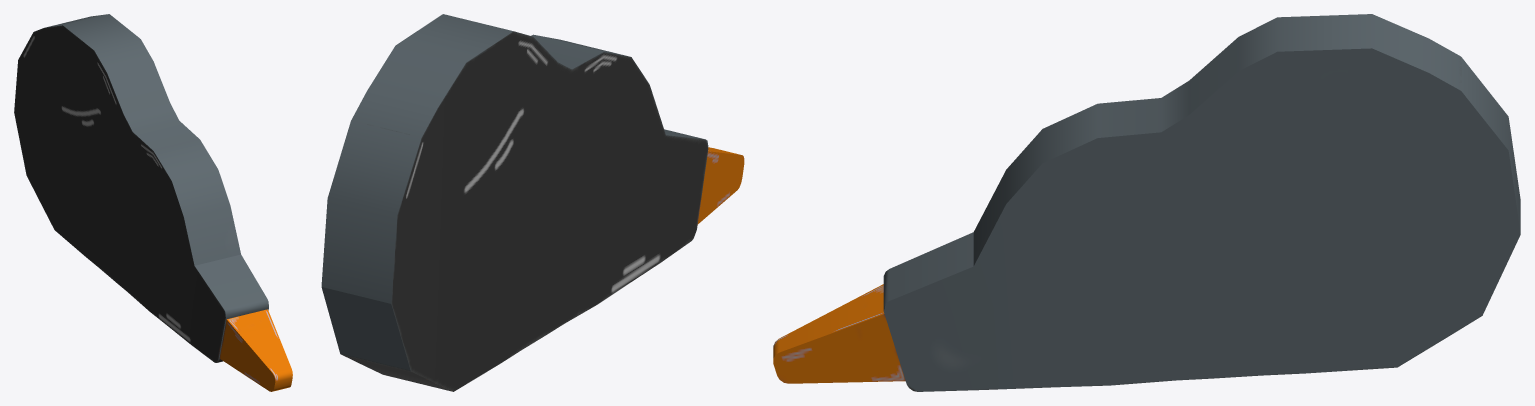
File: CorrectionTapeJadi.fbx
3 views of the same model, side by side, from view 1: azimuth 30°, elevation 25°; view 2: azimuth 150°, elevation 25°; view 3: azimuth 270°, elevation 25° (orthographic). The views are drawn at different scales.
Parts seen in each view (by area): view 1: Cube; view 2: Cube; view 3: Cube.
Boxes of the visible parts, <box> form: Cube: <box>14,14,292,391</box>; Cube: <box>321,14,744,391</box>; Cube: <box>773,14,1520,391</box>.
Size of the model in its own units: 76.35 by 357 by 700.
